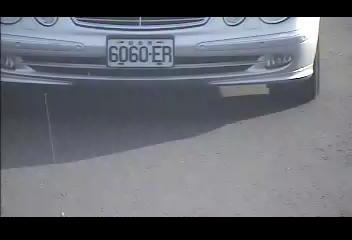plate: (105, 37, 174, 68)
